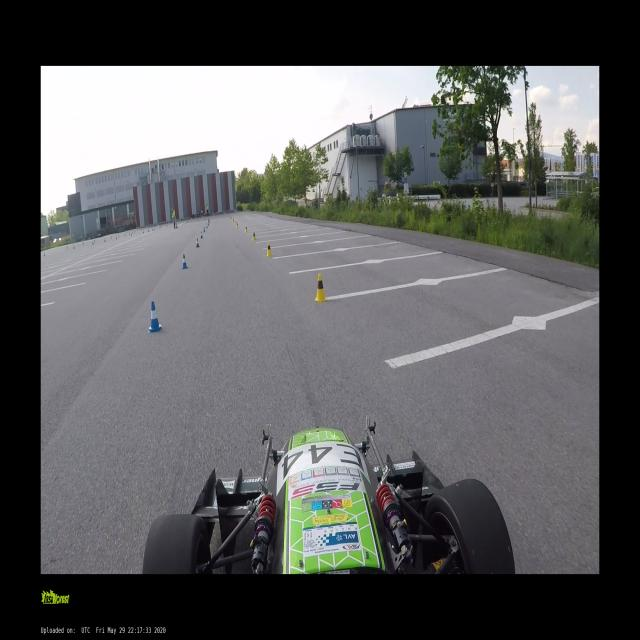blue_cone: (147, 302, 161, 331), (181, 254, 187, 269), (195, 238, 199, 248), (199, 231, 203, 239), (202, 227, 205, 233)
yellow_cone: (314, 273, 328, 301), (266, 241, 273, 257), (252, 231, 256, 241), (243, 225, 247, 232), (236, 222, 239, 228), (234, 220, 237, 225), (235, 221, 238, 226), (231, 218, 234, 222), (229, 216, 232, 220)
